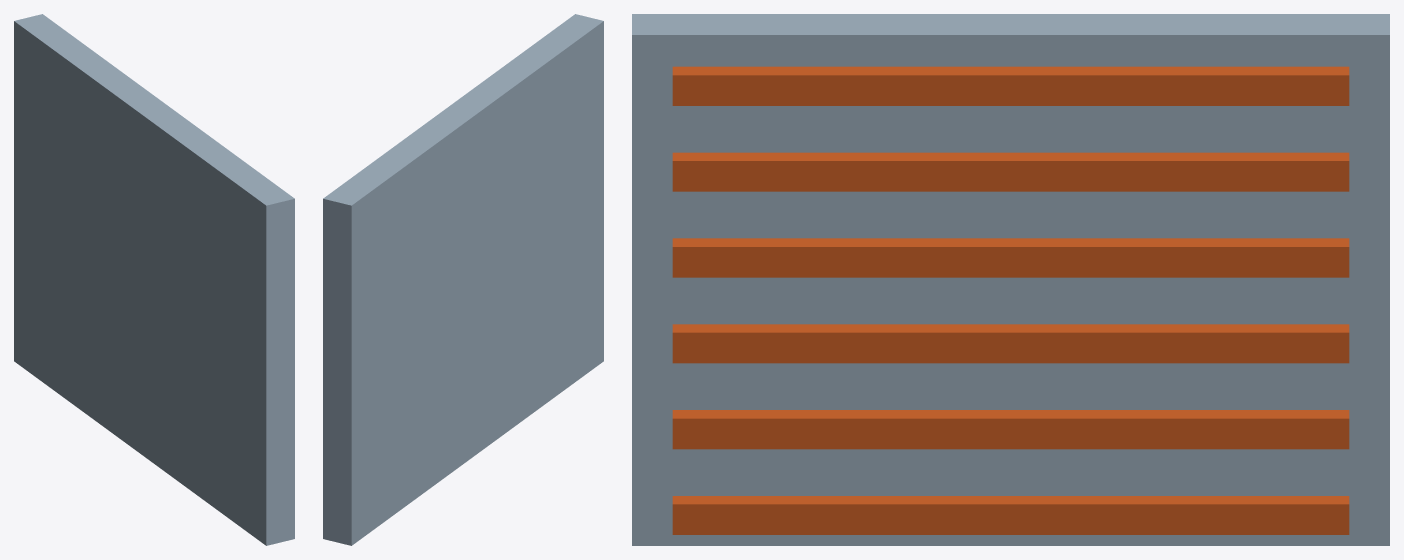
The model's file is 49_L86_RadiatorThermalInterfacePlate.fbx.
3 renders of one model, left to right at view 1: azimuth 30°, elevation 25°; view 2: azimuth 150°, elevation 25°; view 3: azimuth 270°, elevation 25°, orthographic. The views are drawn at different scales.
Parts seen in each view (by area): view 1: L86_RadiatorThermalInterfacePlate_Part_0000; view 2: L86_RadiatorThermalInterfacePlate_Part_0000; view 3: L86_RadiatorThermalInterfacePlate_Part_0000, L86_RadiatorThermalInterfacePlate_Part_0001.
Boxes of the visible parts, bbox=[...] form: L86_RadiatorThermalInterfacePlate_Part_0000: bbox=[14, 14, 294, 545]; L86_RadiatorThermalInterfacePlate_Part_0000: bbox=[323, 14, 603, 545]; L86_RadiatorThermalInterfacePlate_Part_0000: bbox=[632, 14, 1389, 545]; L86_RadiatorThermalInterfacePlate_Part_0001: bbox=[672, 66, 1349, 534].
Bounding box in the file's own units: 31 × 250 × 336.
